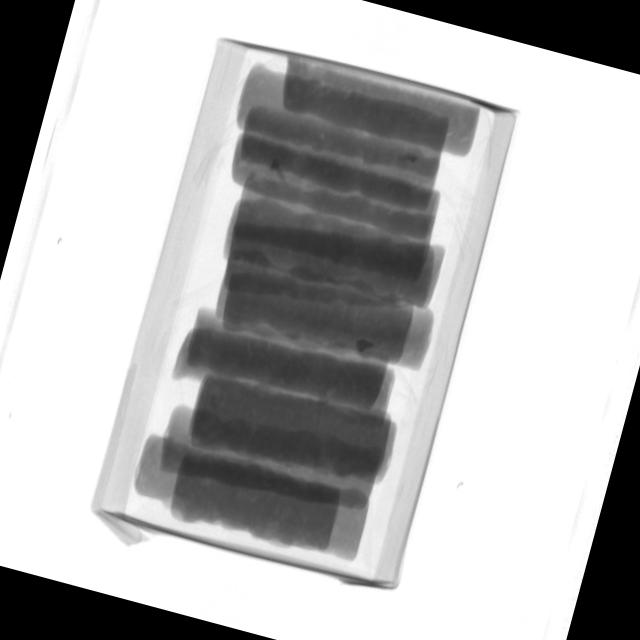ym: (269, 159, 292, 182), (353, 337, 375, 356), (396, 151, 420, 166)
